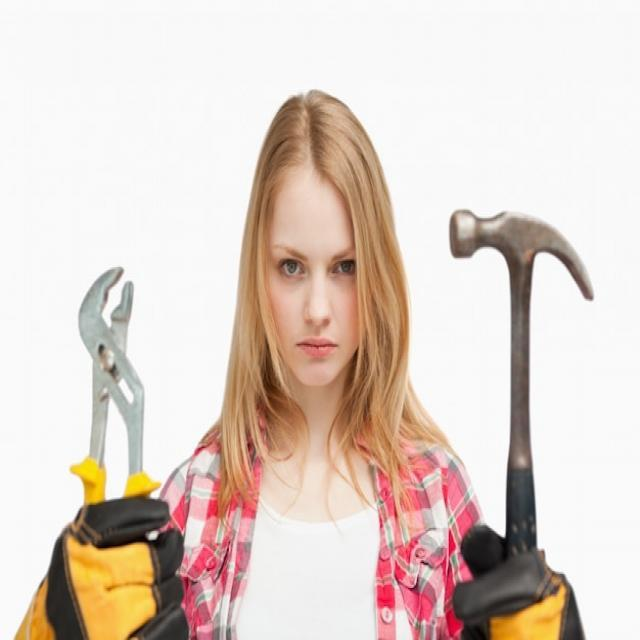hammer: (441, 199, 602, 566)
